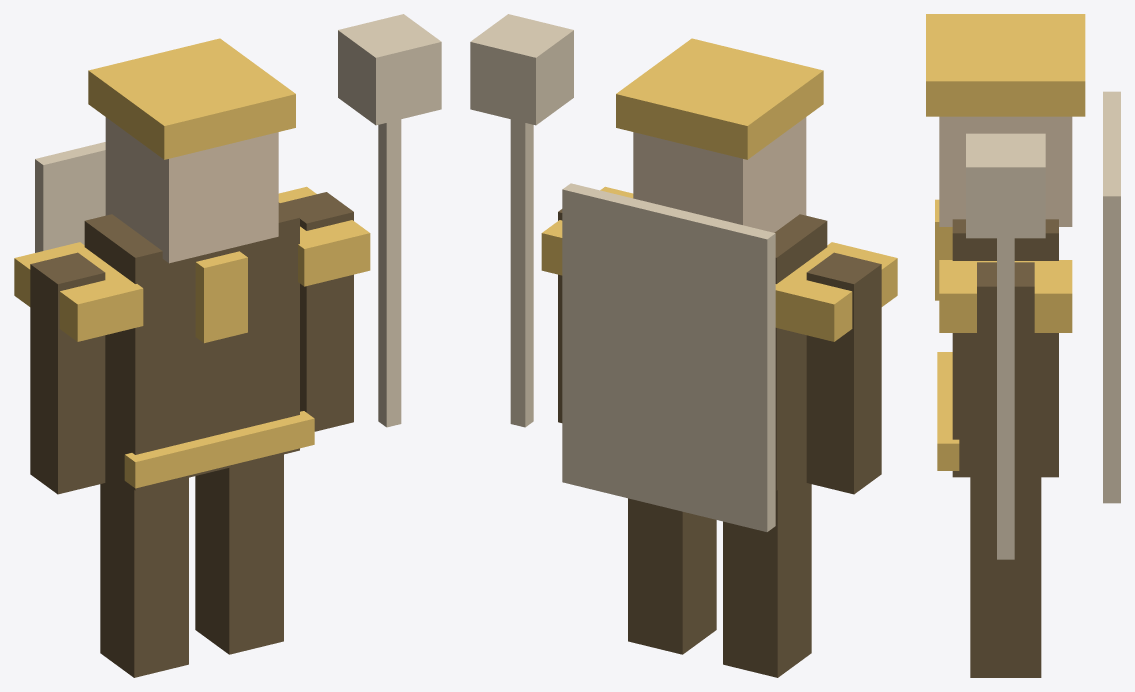
File: 10_varren_frostrelay_keeper_from.glb
3 renders of one model, left to right at view 1: azimuth 30°, elevation 25°; view 2: azimuth 150°, elevation 25°; view 3: azimuth 270°, elevation 25°, orthographic. The views are drawn at different scales.
Parts seen in each view (by area): view 1: Varren Frostrelay, Keeper from; view 2: Varren Frostrelay, Keeper from; view 3: Varren Frostrelay, Keeper from.
Boxes of the visible parts, left/top/right/bottom form: Varren Frostrelay, Keeper from: left=14, top=14, right=441, bottom=677; Varren Frostrelay, Keeper from: left=470, top=14, right=897, bottom=677; Varren Frostrelay, Keeper from: left=926, top=14, right=1120, bottom=677.
Bounding box in the file's own units: 1.08 × 1.53 × 0.4573.
